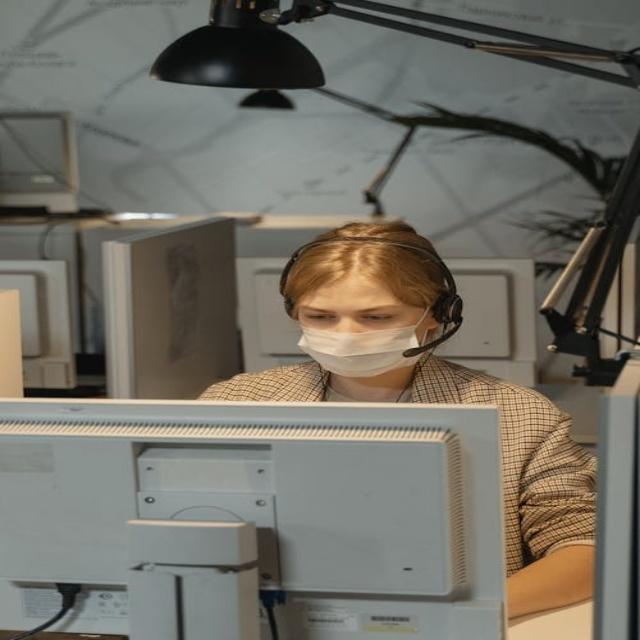Mascara: (296, 304, 436, 377)
Sin_gafas: (296, 303, 406, 329)
